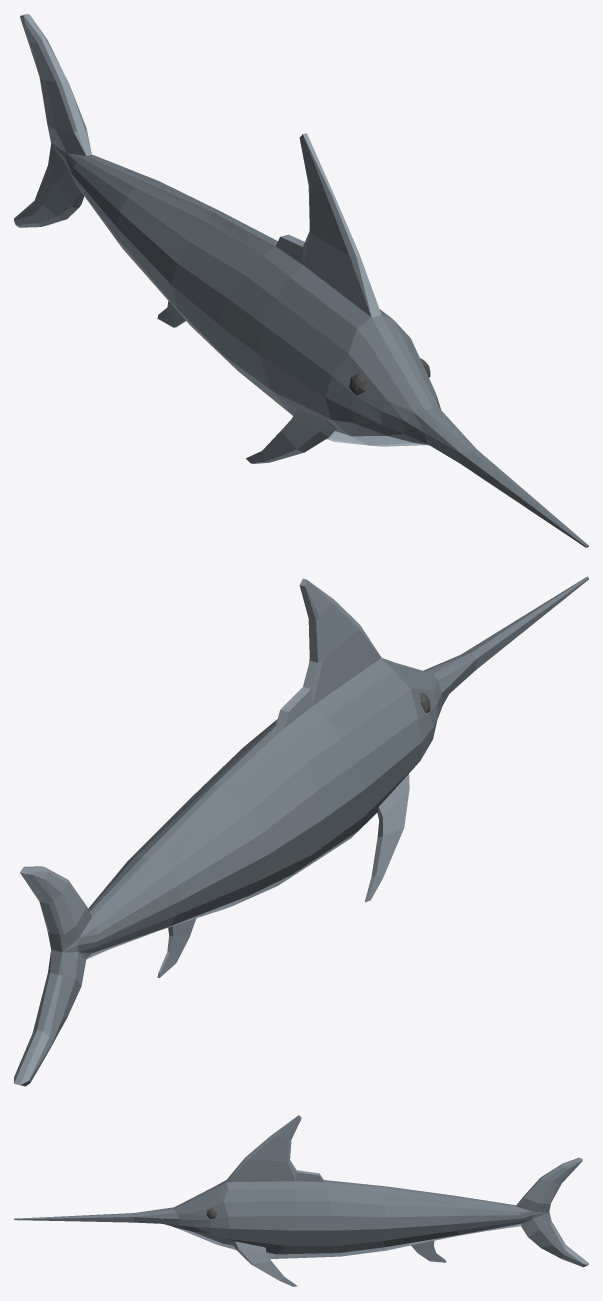
The model's file is swordfish.fbx.
3 views of the same model, one above another, from view 1: azimuth 30°, elevation 25°; view 2: azimuth 150°, elevation 25°; view 3: azimuth 270°, elevation 25° (orthographic). The views are drawn at different scales.
Visible parts, largest first — view 1: swordfish; view 2: swordfish; view 3: swordfish.
Part boxes in pixels (x1,y1,x2,y2): swordfish: (14, 14, 588, 547); swordfish: (14, 576, 588, 1086); swordfish: (14, 1115, 588, 1286).
Bounding box in the file's own units: 38.66 × 317 × 95.6.
